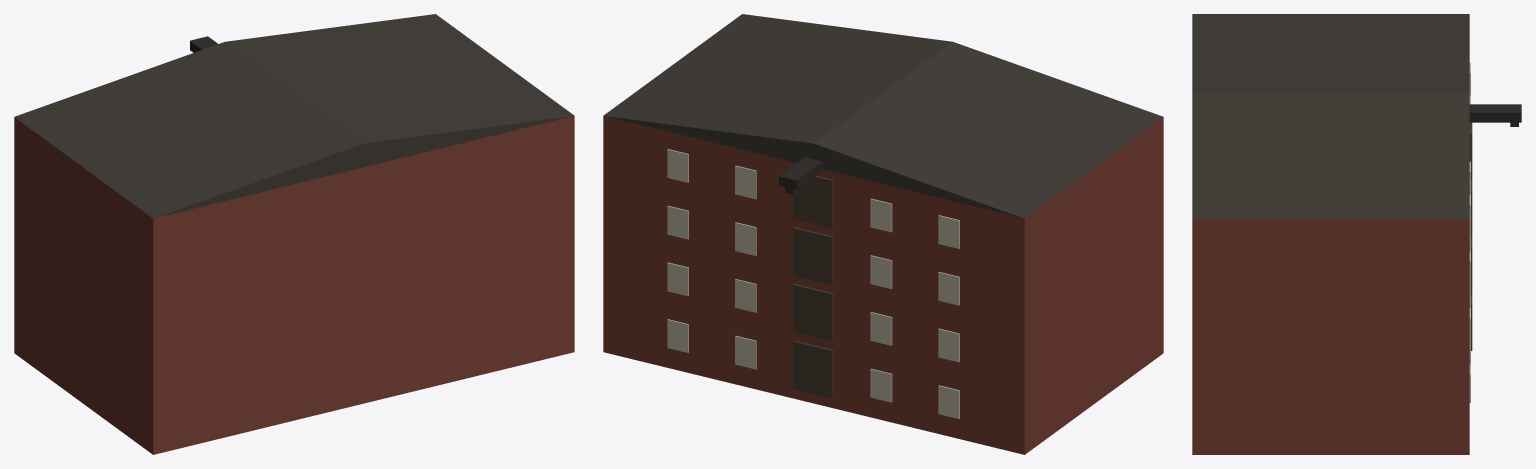
File: b06-wharf-warehouse.glb
3 views of the same model, side by side, from view 1: azimuth 30°, elevation 25°; view 2: azimuth 150°, elevation 25°; view 3: azimuth 270°, elevation 25° (orthographic).
Visible parts, largest first — view 1: part0, part1; view 2: part0, part1, part12, part2, part7, part17, part22, part4, part9, part14, part19, part5 (+11 smaller); view 3: part0, part1, part22.
Part boxes in pixels (x1,y1,x2,y2): part0: (14,116,574,454); part1: (14,14,574,218); part0: (603,116,1163,454); part1: (603,14,1163,218); part12: (793,227,833,284); part2: (793,340,833,397); part7: (793,284,833,341); part17: (793,175,833,227); part22: (779,157,822,189); part4: (870,368,892,402); part9: (870,312,892,345); part14: (870,255,892,288); part19: (870,198,892,232); part5: (735,335,756,369); part0: (1192,219,1469,454); part1: (1192,14,1469,219); part22: (1469,104,1521,122).
Bounding box in the file's own units: 28000 × 16500 × 19001.
